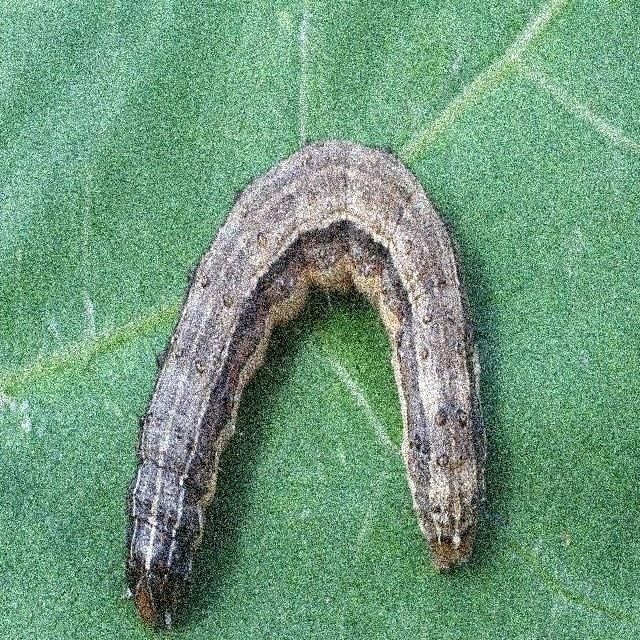worm: (124, 138, 489, 631)
